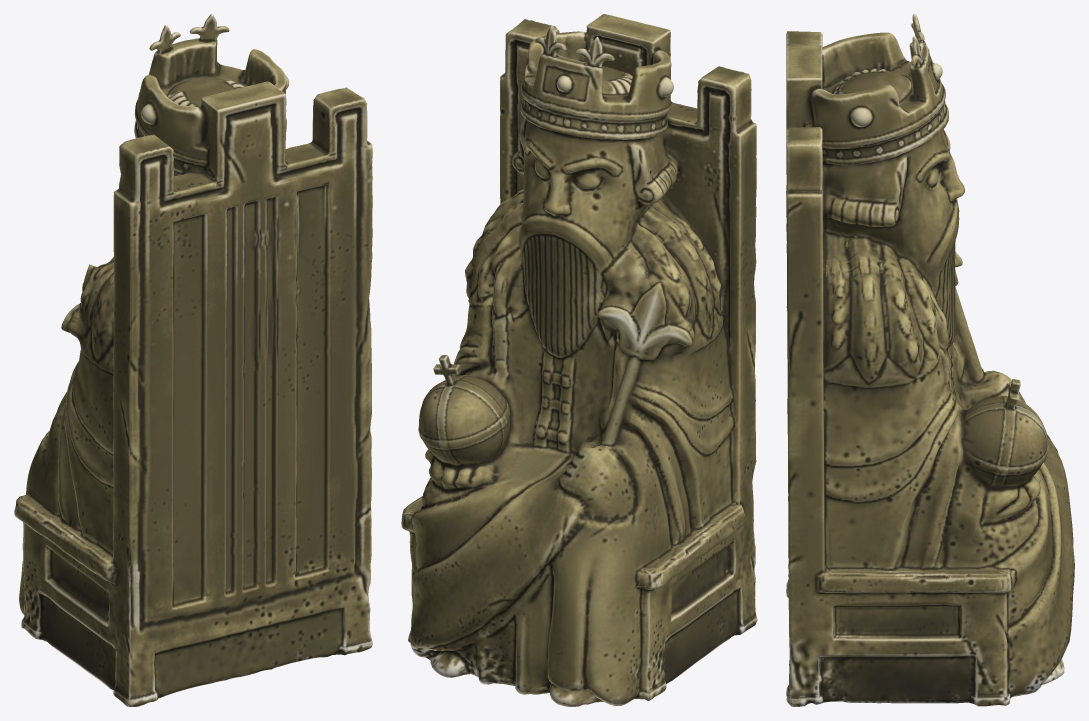
File: reyD_scaled_2.glb
3 renders of one model, left to right at view 1: azimuth 30°, elevation 25°; view 2: azimuth 150°, elevation 25°; view 3: azimuth 270°, elevation 25°, orthographic. The views are drawn at different scales.
Parts seen in each view (by area): view 1: 12939_Stone_Chess_King_Side_A_V2_l1; view 2: 12939_Stone_Chess_King_Side_A_V2_l1; view 3: 12939_Stone_Chess_King_Side_A_V2_l1.
Part boxes in pixels (bbox=[...]): 12939_Stone_Chess_King_Side_A_V2_l1: bbox=[14, 14, 372, 706]; 12939_Stone_Chess_King_Side_A_V2_l1: bbox=[401, 14, 757, 706]; 12939_Stone_Chess_King_Side_A_V2_l1: bbox=[786, 14, 1074, 706].
Bounding box in the file's own units: 0.864 × 1.94 × 0.8117.
1 material, 1 textured.
